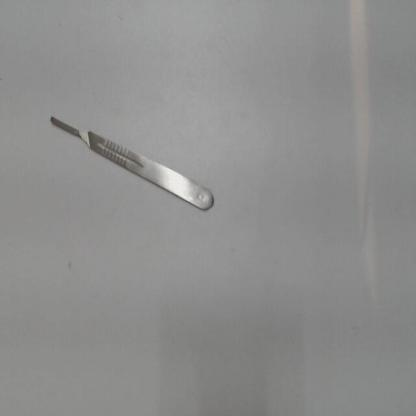No.4 BP Handle: (46, 98, 225, 225)
